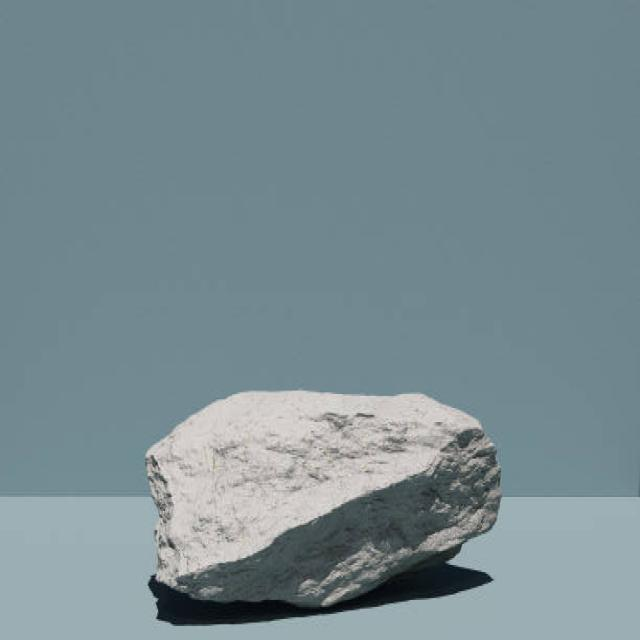Metamorphic: (138, 380, 505, 602)
